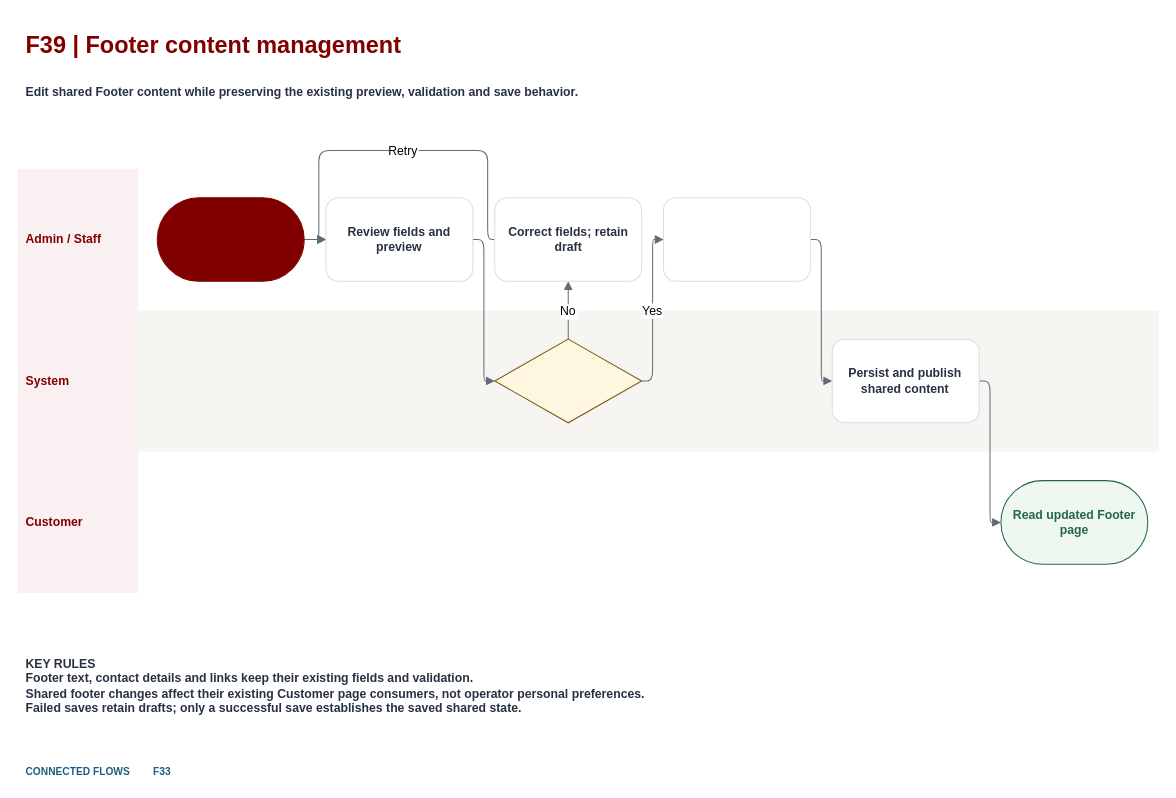
The diagram is 1176 pixels wide and 798 high, and some of its shapes have lost their labels. The centre of each missing label's shape, as x and y in pixels:
Content valid?: point (568, 380)
Edit permitted text and links: point (230, 239)
Save existing page changes: point (736, 239)
